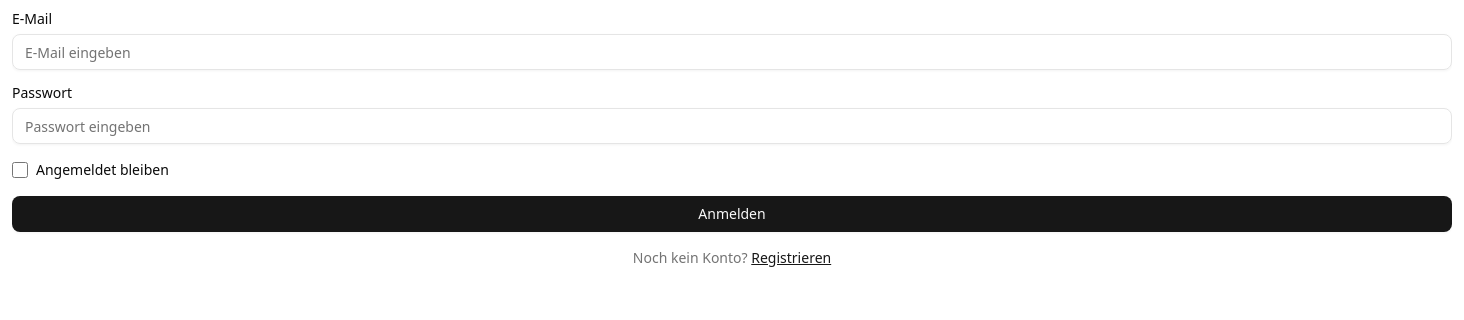
Test case: LoginForm › shows error when submitting empty form
Click the button "Anmelden": (732, 214) x1=12 y1=196 x2=1452 y2=232
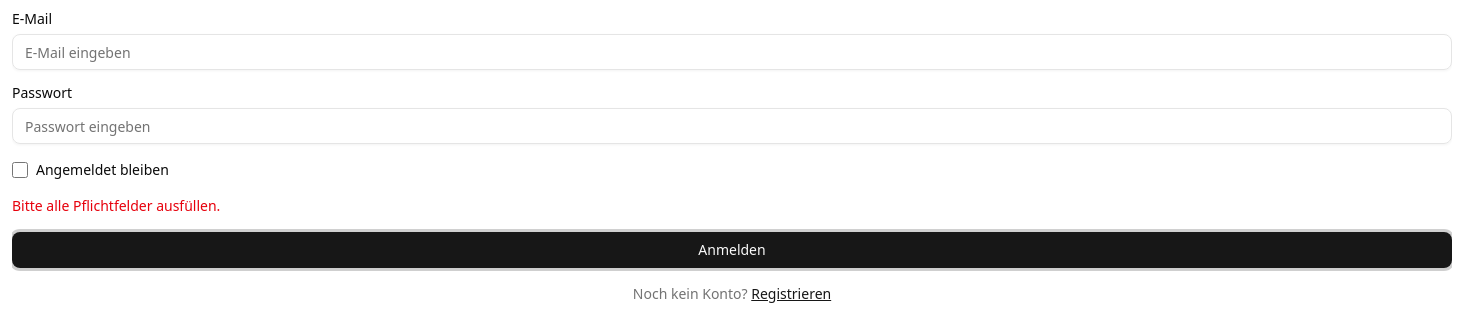
Expected: the text "Bitte alle Pflichtfelder ausfüllen." is shown, x1=12 y1=196 x2=220 y2=215
